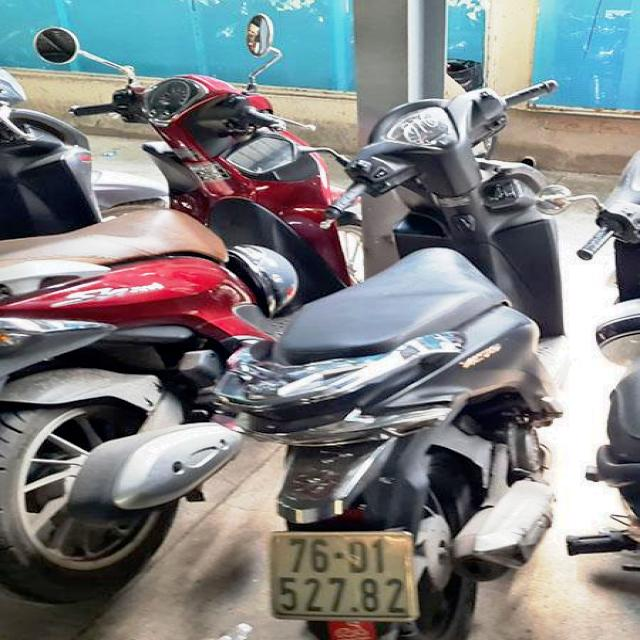license_plate: (270, 530, 413, 617)
